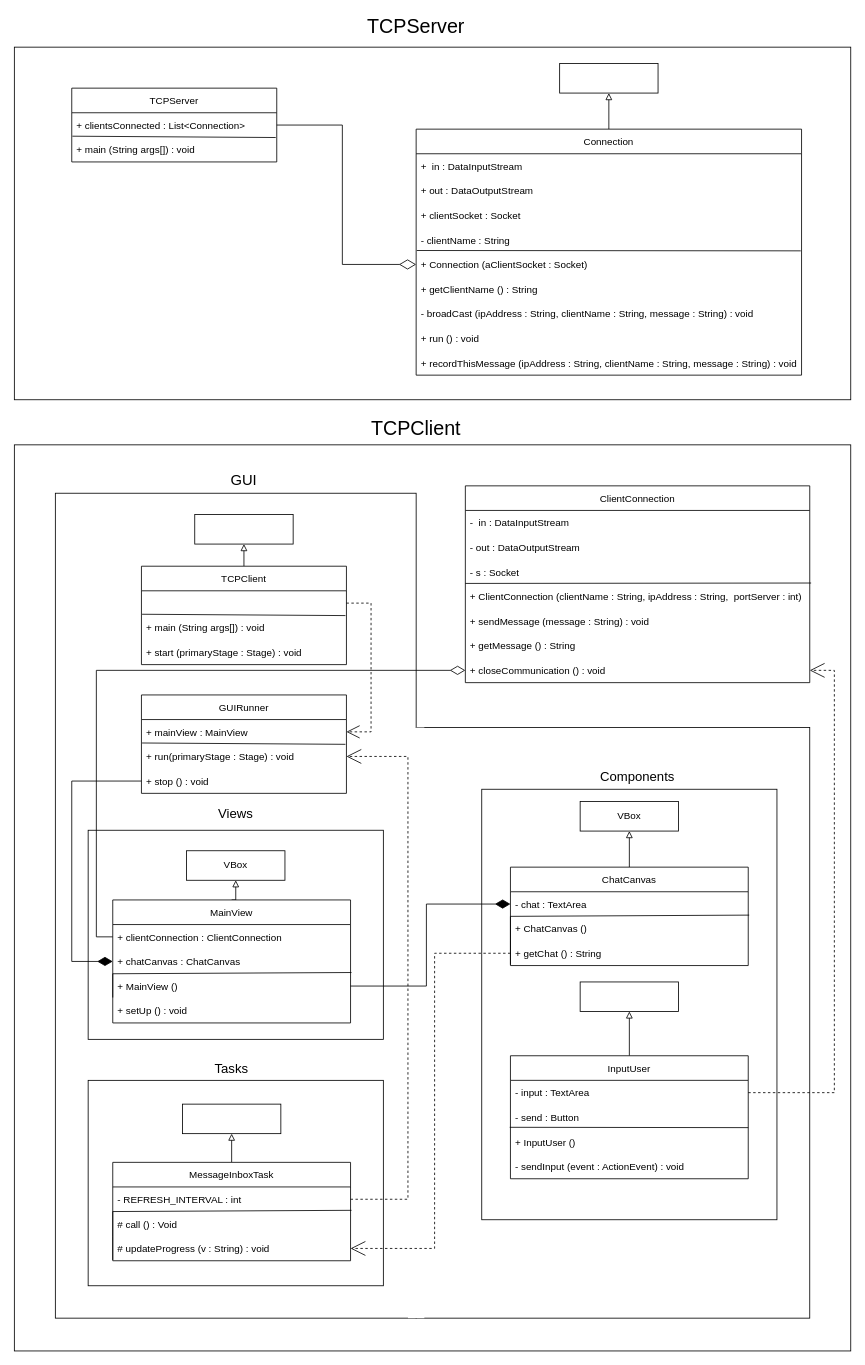
Image size: 865x1365. Some labels were removed from this diagram. Each missing label, with the centre of its shape:
"Application" goes at point (243, 529).
"HBox" goes at point (629, 996).
"Task<Void>" goes at point (231, 1118).
"Thread" goes at point (608, 78).
